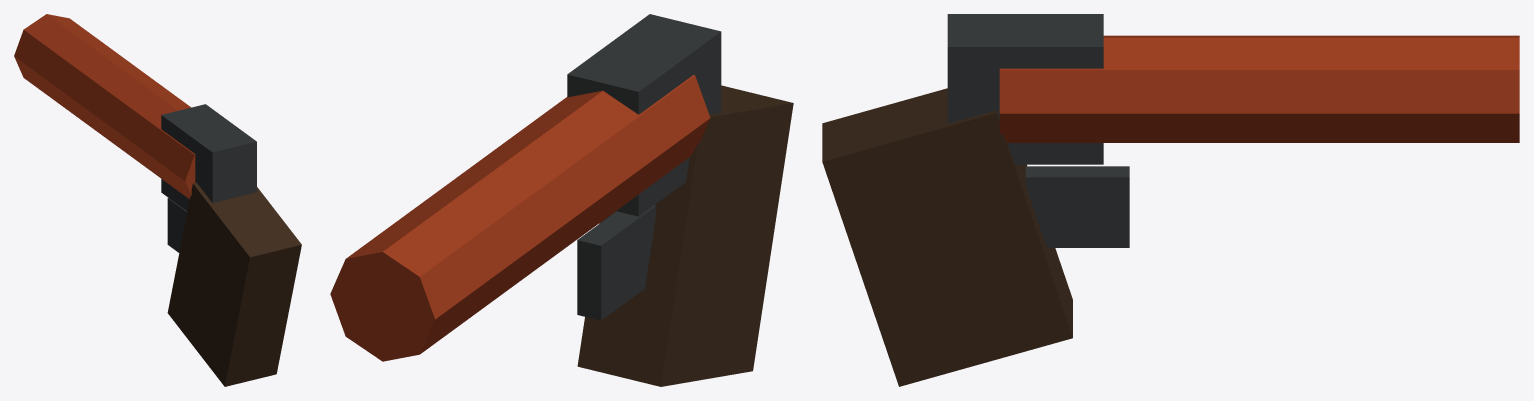
Rendered from tool_flare_gun.glb.
3 renders of one model, left to right at view 1: azimuth 30°, elevation 25°; view 2: azimuth 150°, elevation 25°; view 3: azimuth 270°, elevation 25°, orthographic. The views are drawn at different scales.
Parts seen in each view (by area): view 1: FlareGun; view 2: FlareGun; view 3: FlareGun.
Boxes of the visible parts, x1,y1,x2,y2 form: FlareGun: [14, 14, 301, 386]; FlareGun: [330, 14, 793, 386]; FlareGun: [822, 14, 1519, 386].
Size of the model in its own units: 0.044 by 0.1431 by 0.2682.
